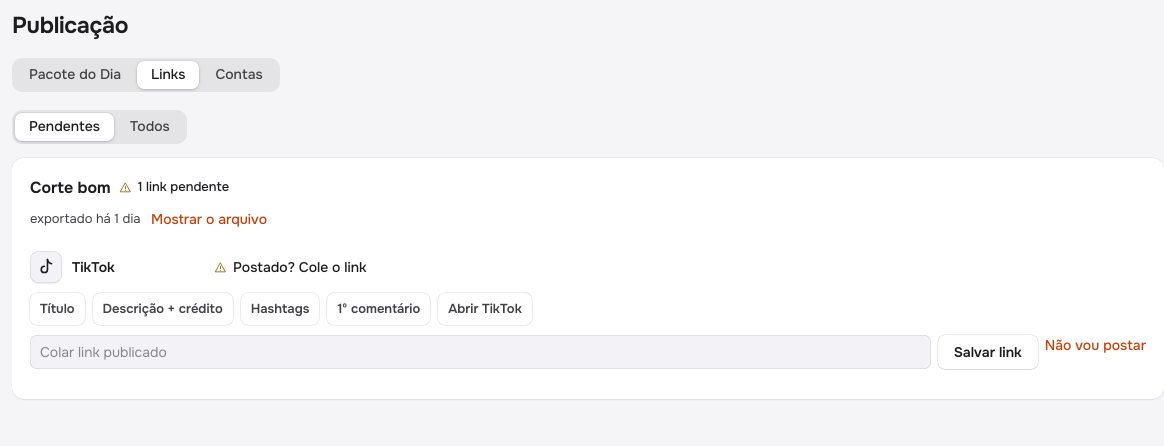
Test: Publicação › link da rede errada é recusado na hora; o certo vai para o backend; não vou postar pede motivo de 1 clique
The width and height of the screenshot is (1164, 446).
Later steps or results of the test are not shown.
In the field labelled "link publicado": (480, 352) [30,335,931,369], type "https://youtu.be/x"
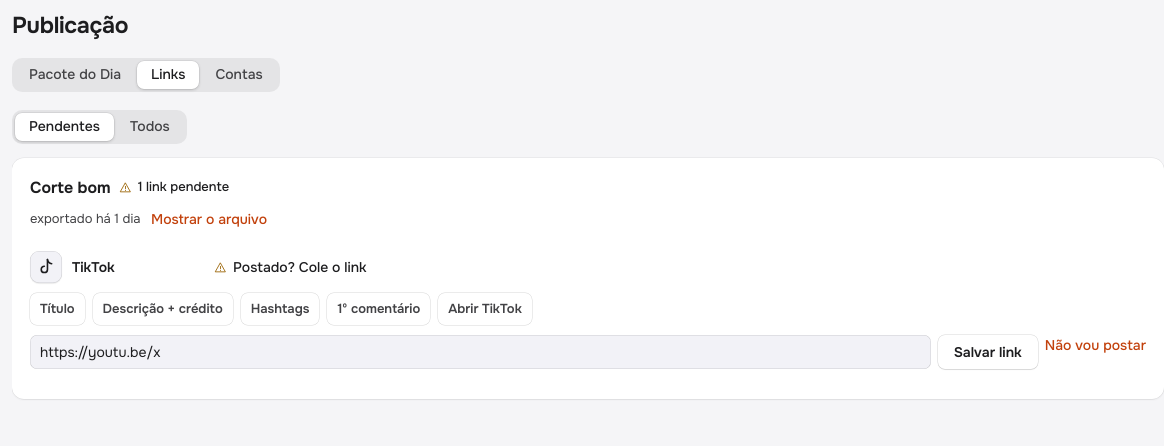
Click the button "Salvar link": (988, 352) [938,335,1038,369]
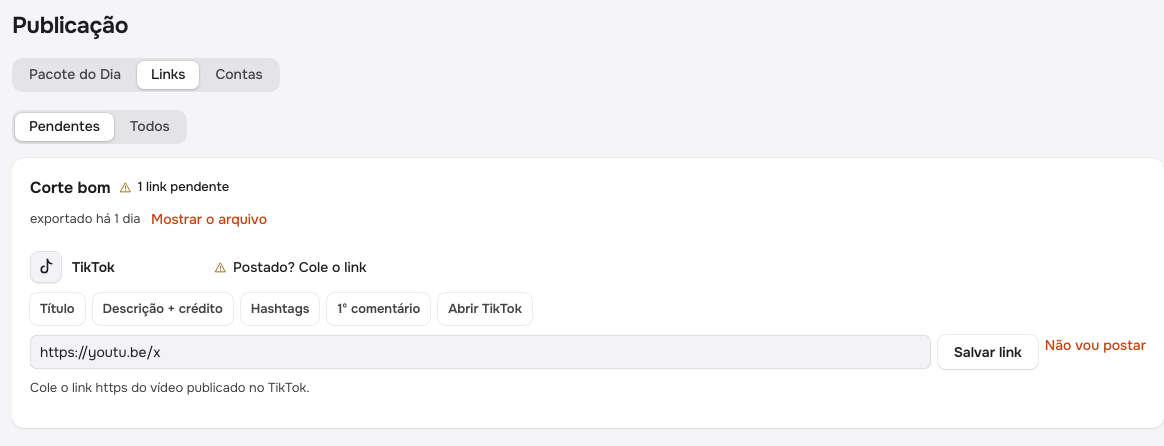
Expected: the message shows "TikTok", [30,379,310,396]
